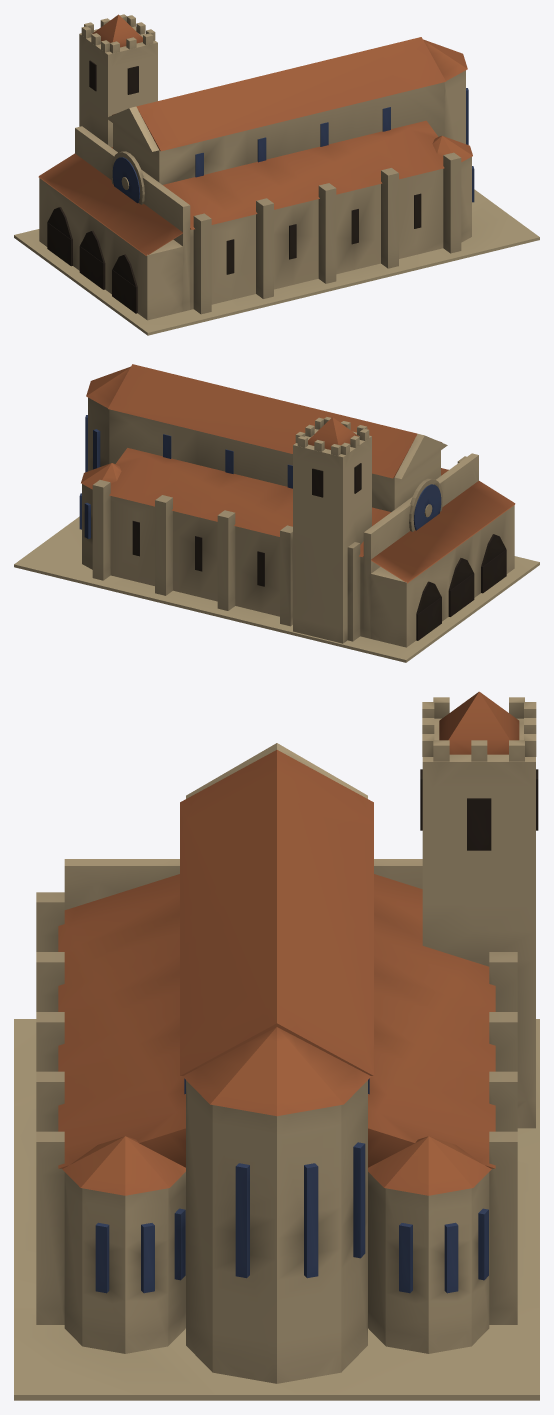
Rendered from san-lorenzo.glb.
3 renders of one model, top to bottom at view 1: azimuth 30°, elevation 25°; view 2: azimuth 150°, elevation 25°; view 3: azimuth 270°, elevation 25°, orthographic. The views are drawn at different scales.
Parts seen in each view (by area): view 1: p1_church, p0_ground, p2_tower; view 2: p1_church, p2_tower, p0_ground; view 3: p1_church, p0_ground, p2_tower.
Part boxes in pixels (left/top/right/bottom): p1_church: left=38, top=37, right=474, bottom=320; p0_ground: left=14, top=189, right=539, bottom=335; p2_tower: left=79, top=14, right=157, bottom=147; p1_church: left=79, top=364, right=515, bottom=647; p2_tower: left=293, top=417, right=371, bottom=643; p0_ground: left=14, top=516, right=539, bottom=662; p1_church: left=36, top=743, right=517, bottom=1383; p0_ground: left=14, top=1019, right=539, bottom=1400; p2_tower: left=420, top=691, right=538, bottom=1128.
Bounding box in the file's own units: 44 × 22.82 × 26.
